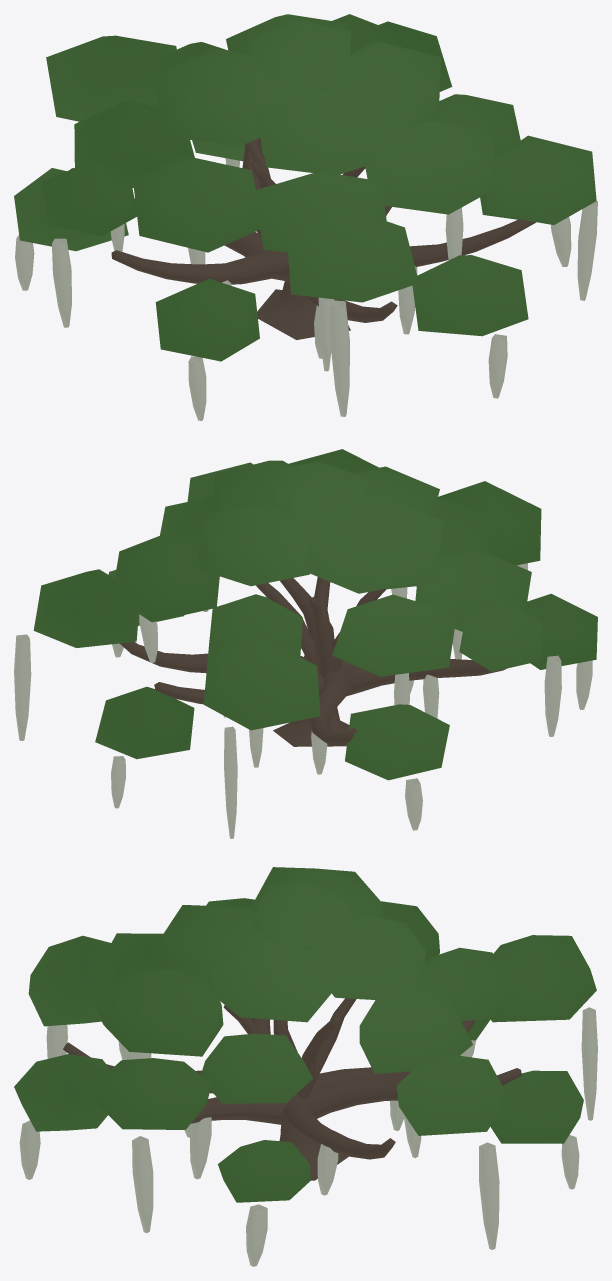
Rendered from Blender_LiveOakMoss_2_Far.glb.
3 views of the same model, one above another, from view 1: azimuth 30°, elevation 25°; view 2: azimuth 150°, elevation 25°; view 3: azimuth 270°, elevation 25° (orthographic). The views are drawn at different scales.
Visible parts, largest first — view 1: Blender_LiveOakMoss_2_Far; view 2: Blender_LiveOakMoss_2_Far; view 3: Blender_LiveOakMoss_2_Far.
Boxes of the visible parts, <box> form: Blender_LiveOakMoss_2_Far: <box>14,14,597,420</box>; Blender_LiveOakMoss_2_Far: <box>14,449,597,838</box>; Blender_LiveOakMoss_2_Far: <box>14,867,597,1266</box>.
Size of the model in its own units: 25.22 by 14.37 by 26.59.
